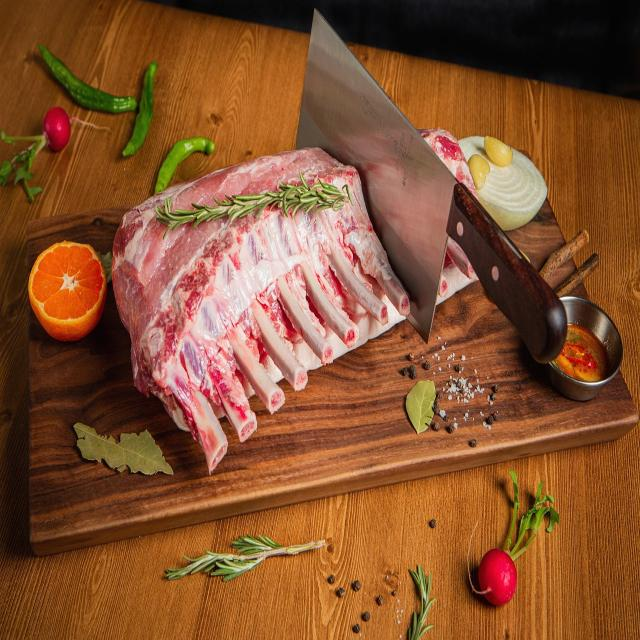Knife: (296, 11, 566, 362)
